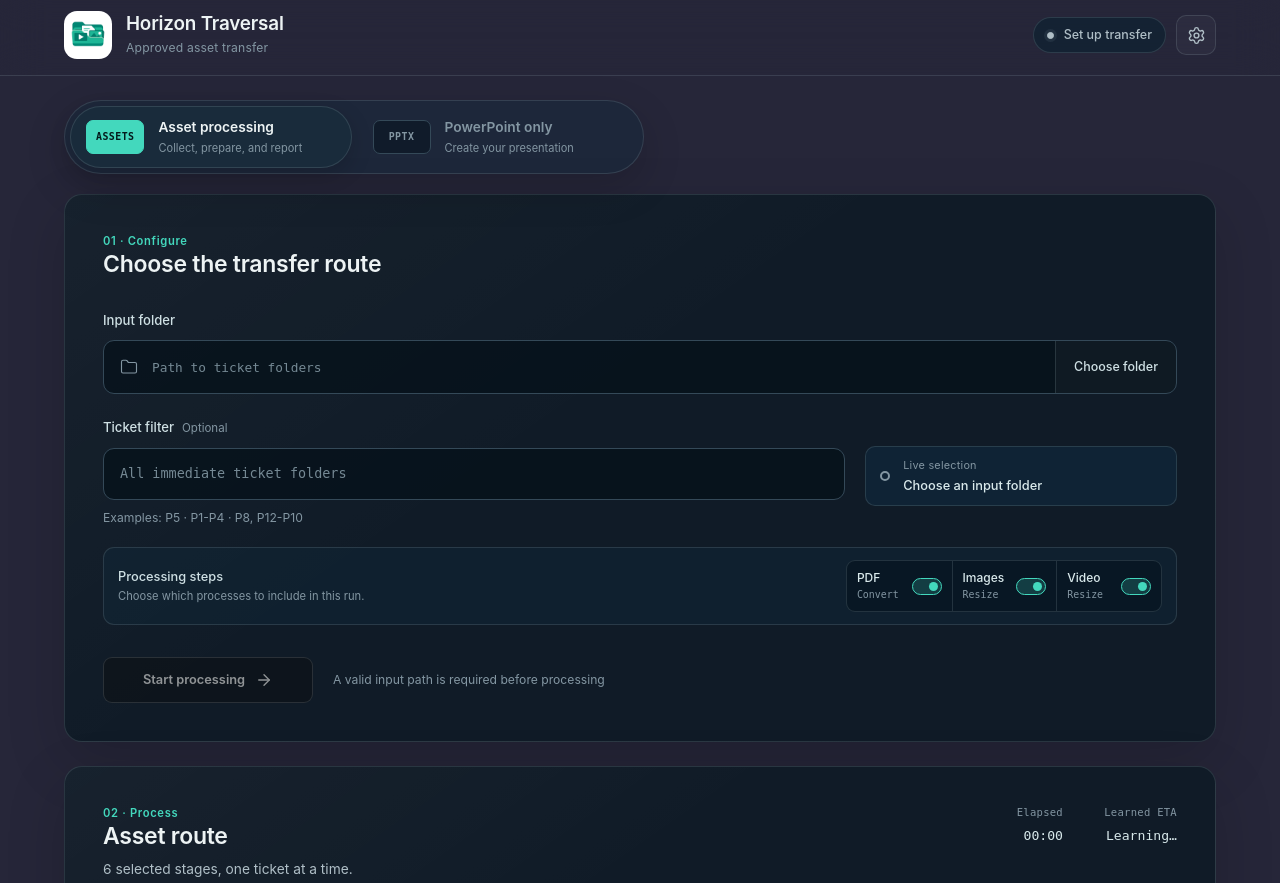
Scenario: Horizon Traversal workbench › displays a warning-only backend partial result as successful
Type "/tickets" into the field labelled "Input folder" at (596, 367), box [138, 343, 1055, 392]
Wait 360 ms
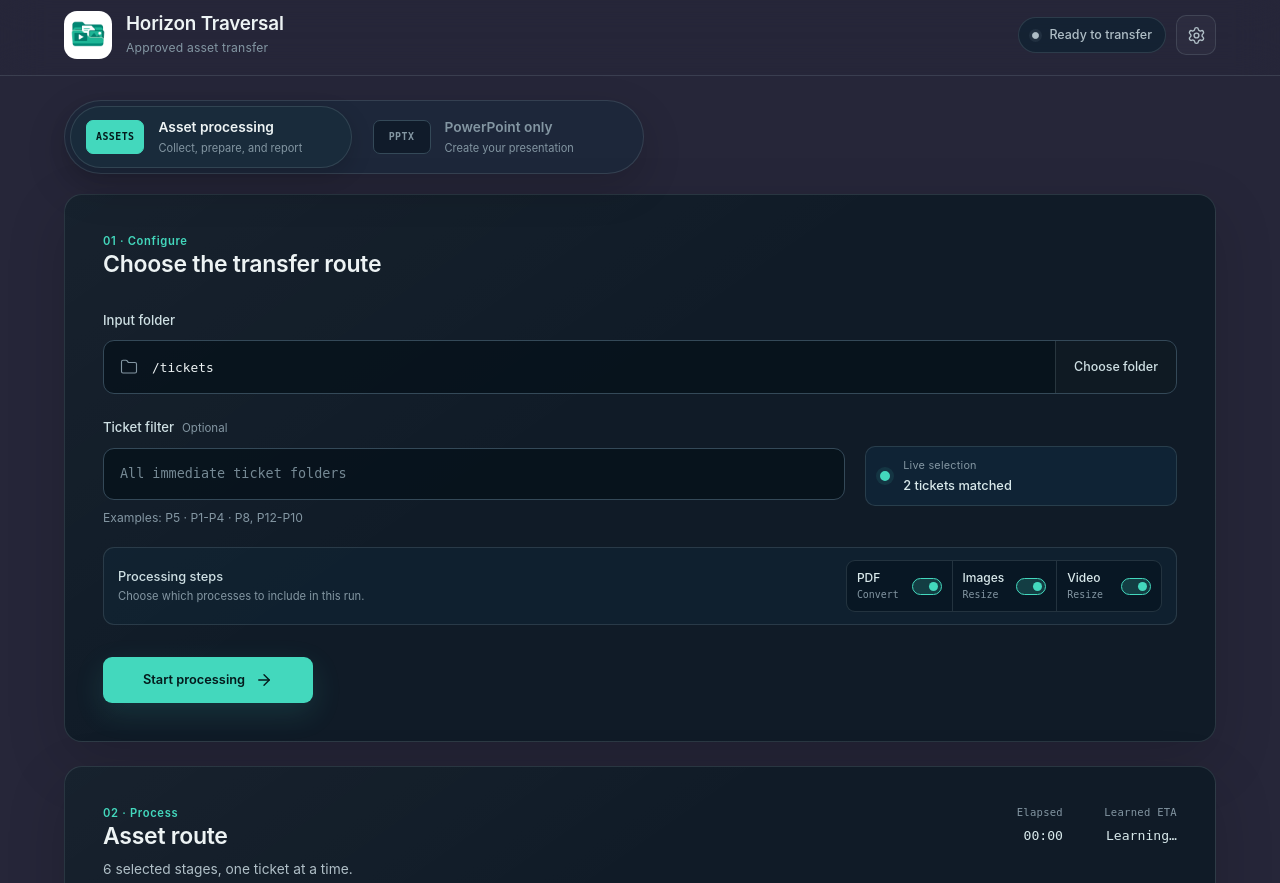
Click the button "Start processing" at (208, 680), box [103, 657, 313, 703]
(page scrolled)
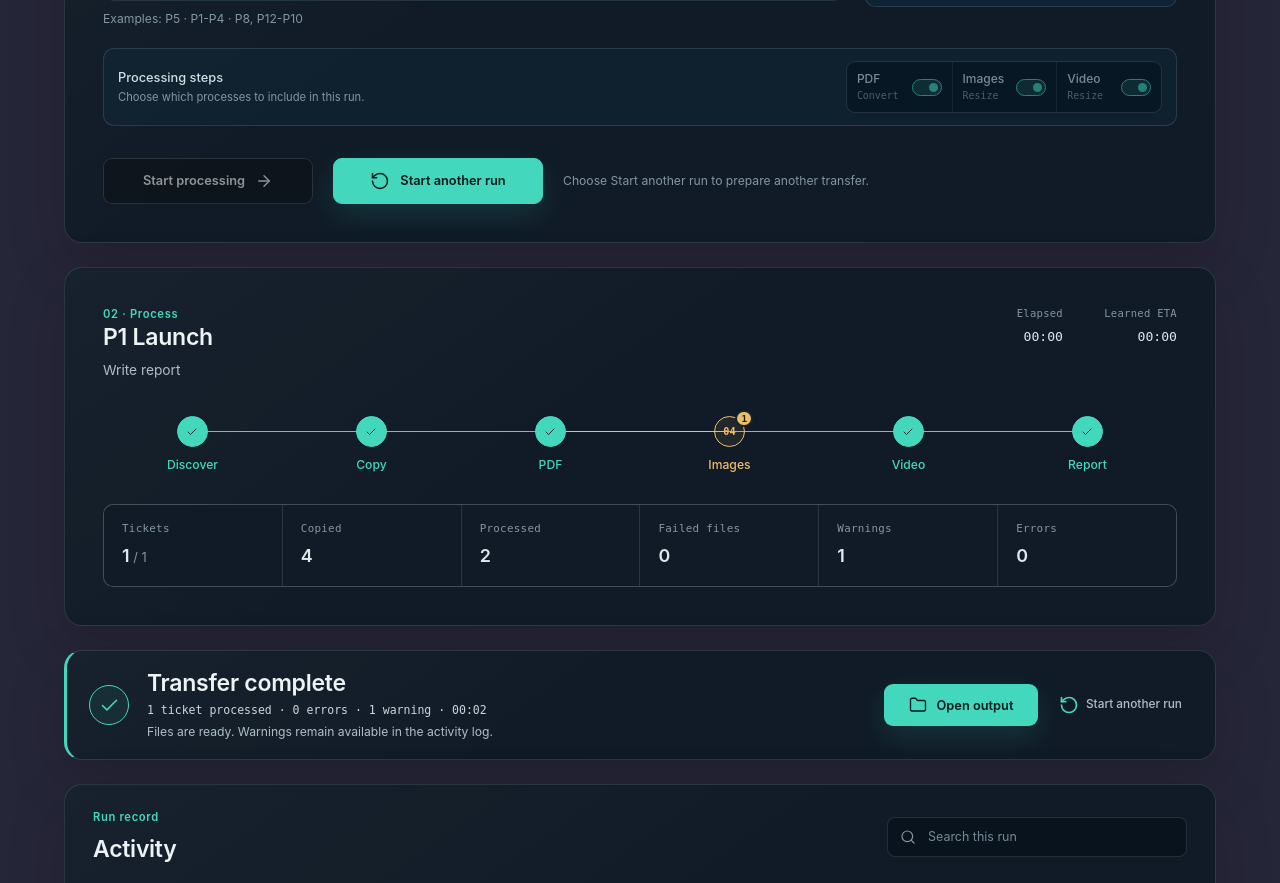
Check: the text "Files are ready. Warnings remain available in the activity log." is shown, box [147, 724, 493, 739]
Check: the element "Transfer complete" shows "1 ticket processed · 0 errors · 1 warning · 00:02", box [147, 703, 487, 717]
